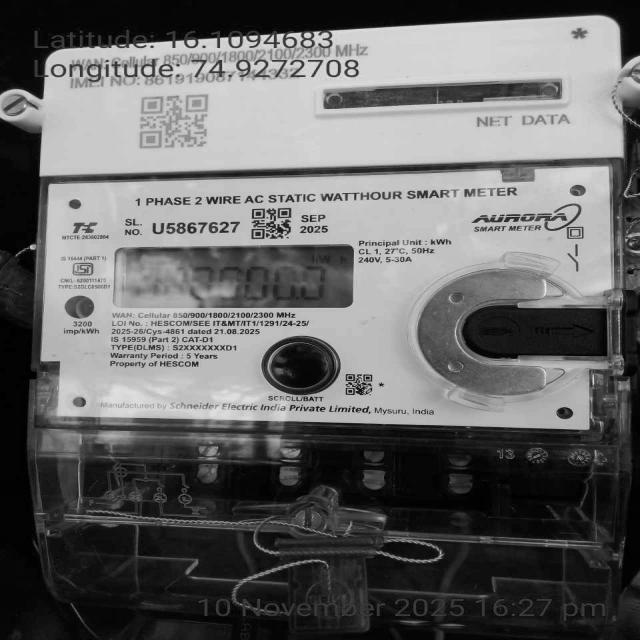meter: (35, 25, 615, 434)
